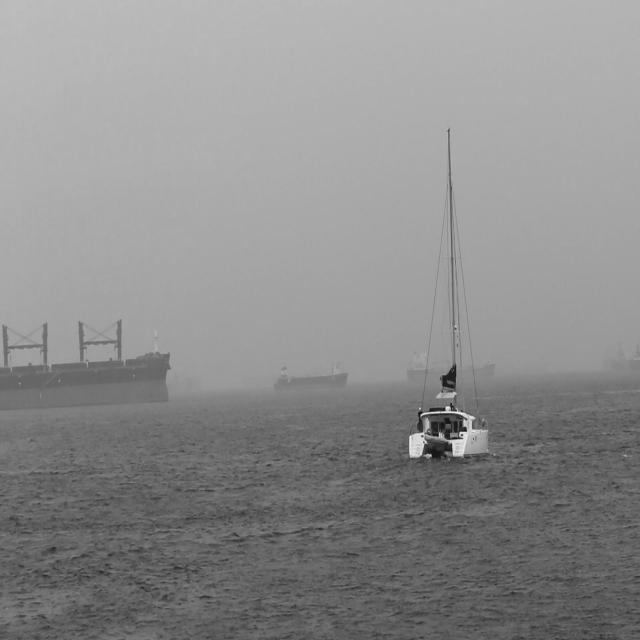boat: (407, 123, 489, 461)
ship: (1, 320, 170, 404), (407, 353, 496, 381), (275, 364, 351, 389), (612, 342, 638, 376)
